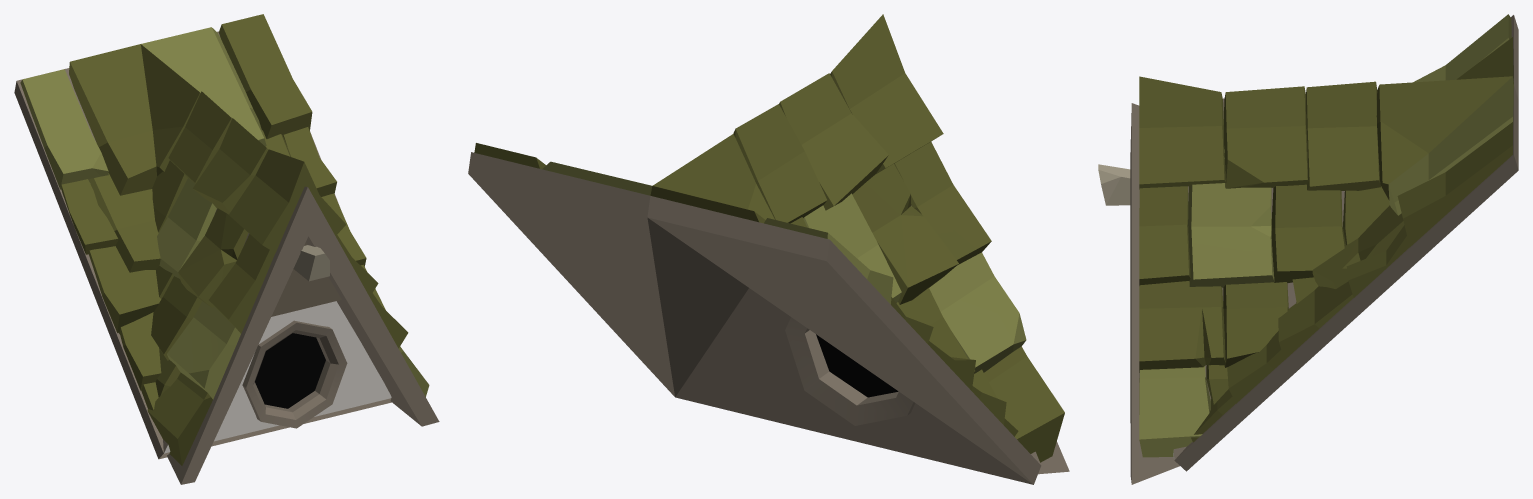
File: _ROOF_SKYLIGHT_1.fbx
3 views of the same model, side by side, from view 1: azimuth 30°, elevation 25°; view 2: azimuth 150°, elevation 25°; view 3: azimuth 270°, elevation 25° (orthographic). The views are drawn at different scales.
Visible parts, largest first — view 1: ROOF_SKYLIGHT_1; view 2: ROOF_SKYLIGHT_1; view 3: ROOF_SKYLIGHT_1.
Boxes of the visible parts, left/top/right/bottom form: ROOF_SKYLIGHT_1: left=14, top=14, right=439, bottom=484; ROOF_SKYLIGHT_1: left=468, top=14, right=1069, bottom=484; ROOF_SKYLIGHT_1: left=1098, top=14, right=1518, bottom=484.
Size of the model in its own units: 104 by 111 by 127.
